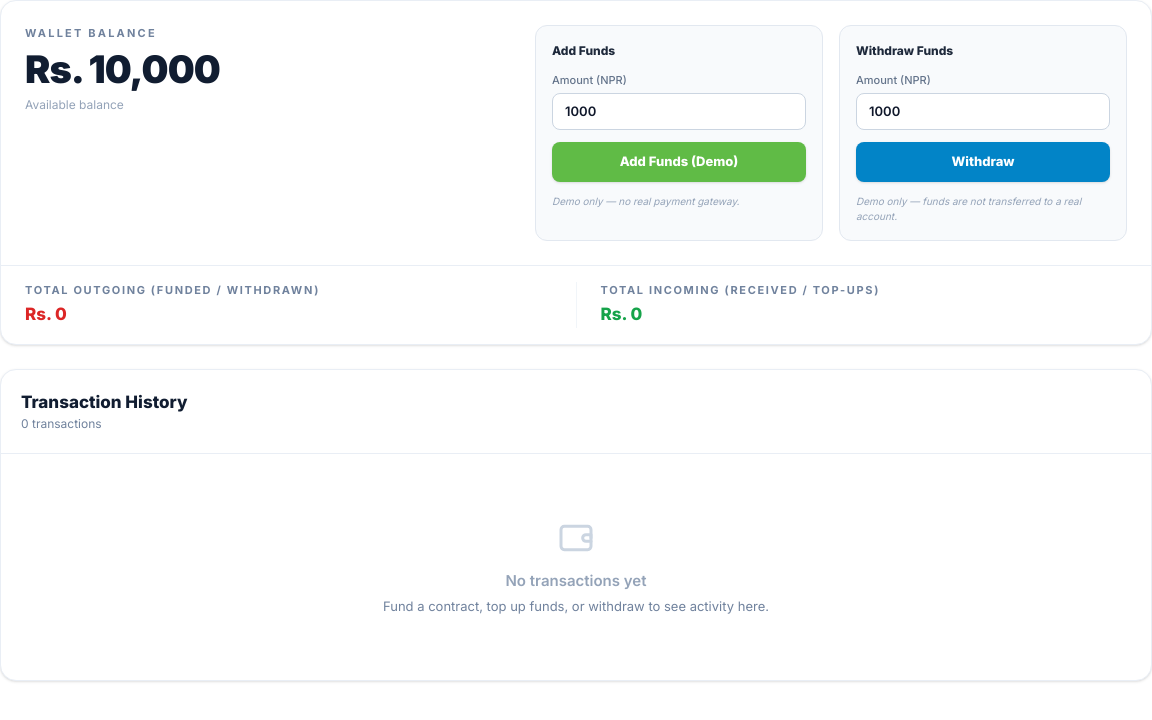
WalletPanel Component Tests › increases displayed balance on successful demo top-up
Check: the text "10,000" is shown, box [88,46,220,92]
Replace the text in the 1st number field with placeholder "Enter amount" with "5000" at [679, 111], box [552,92,806,130]
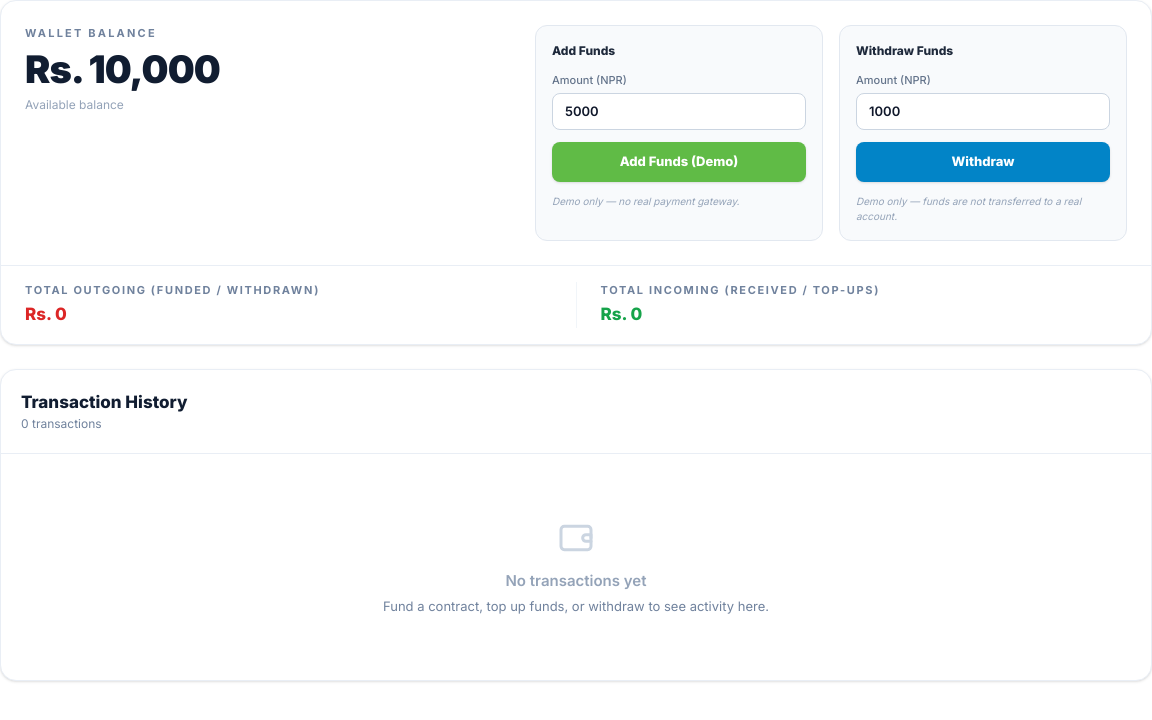
Submit the form with placeholder "Enter amount", box [552,72,806,208]
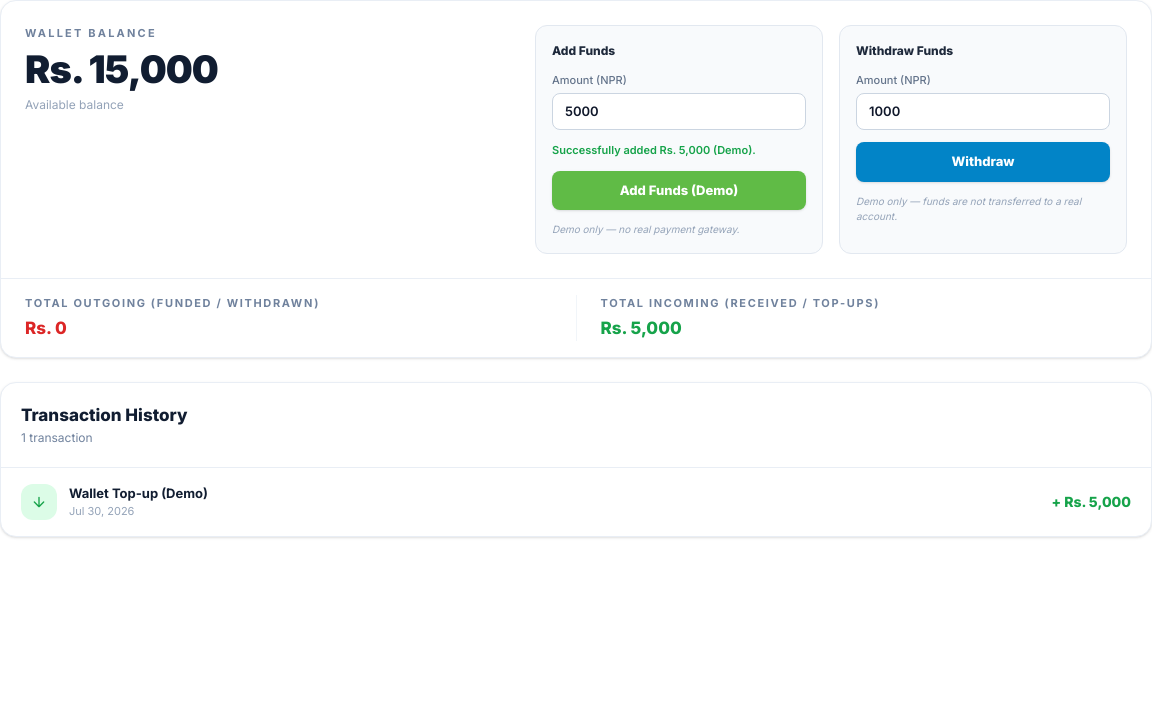
Check: the text "15,000" is shown, box [88,46,218,92]
Check: the text "Successfully added Rs. 5,000 (Demo)." is shown, box [552,143,756,157]
